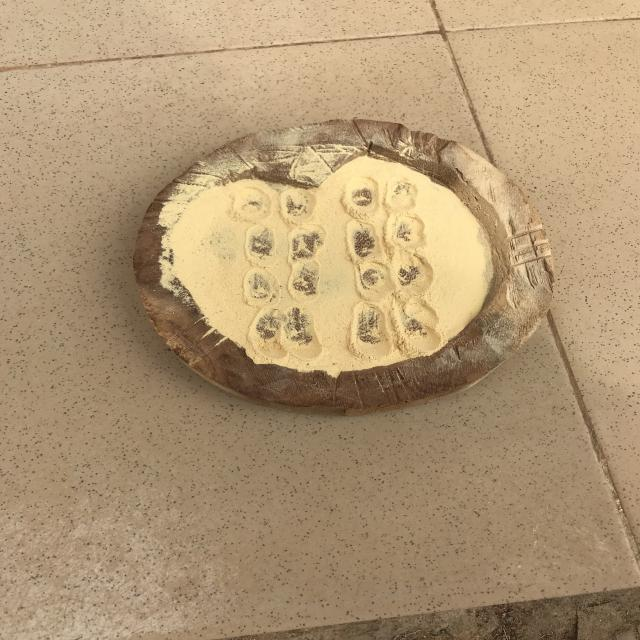double: (346, 304, 441, 361), (245, 308, 324, 363), (228, 182, 318, 225), (344, 216, 424, 262), (244, 224, 327, 266), (241, 266, 325, 306), (338, 176, 418, 216), (351, 264, 436, 298)
